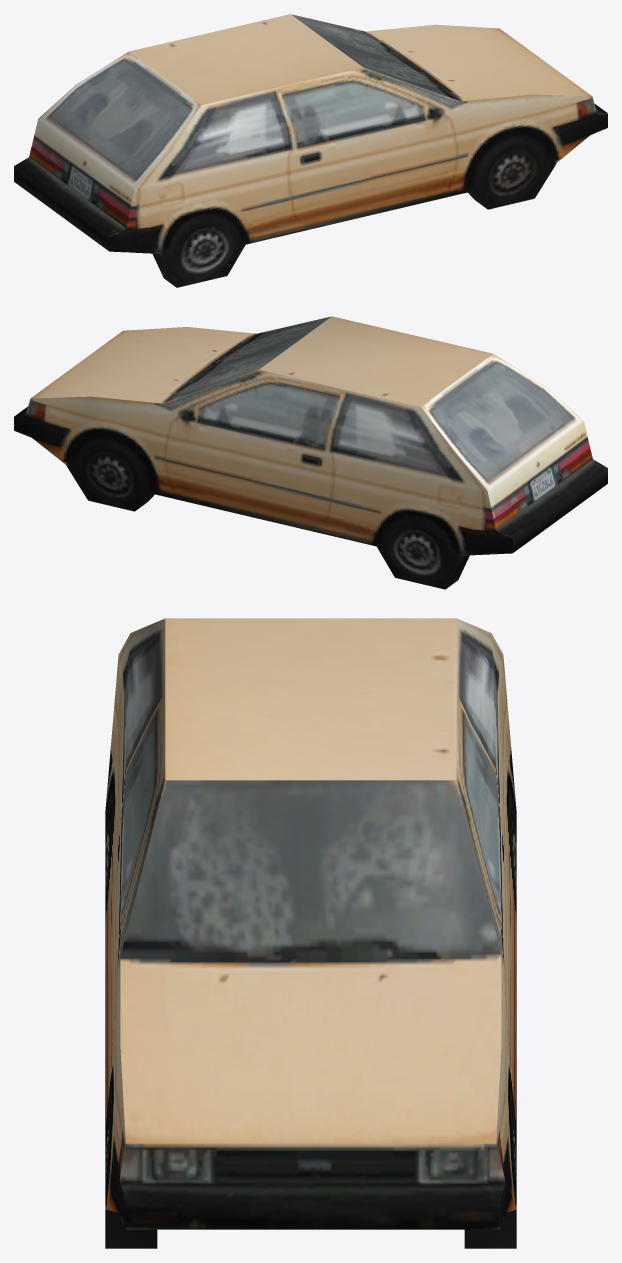
Rendered from Shared - Ground Vehicles - CV Cmp Car PC - CVCmpCarPC.glb.
3 views of the same model, one above another, from view 1: azimuth 30°, elevation 25°; view 2: azimuth 150°, elevation 25°; view 3: azimuth 270°, elevation 25° (orthographic). The views are drawn at different scales.
Visible parts, largest first — view 1: CVCMPCARPC; view 2: CVCMPCARPC; view 3: CVCMPCARPC.
Boxes of the visible parts, x1,y1,x2,y2 form: CVCMPCARPC: [14, 14, 607, 287]; CVCMPCARPC: [14, 316, 607, 589]; CVCMPCARPC: [105, 618, 516, 1248].
Bounding box in the file's own units: 20.57 × 6.39 × 7.34.
1 material, 1 textured.
